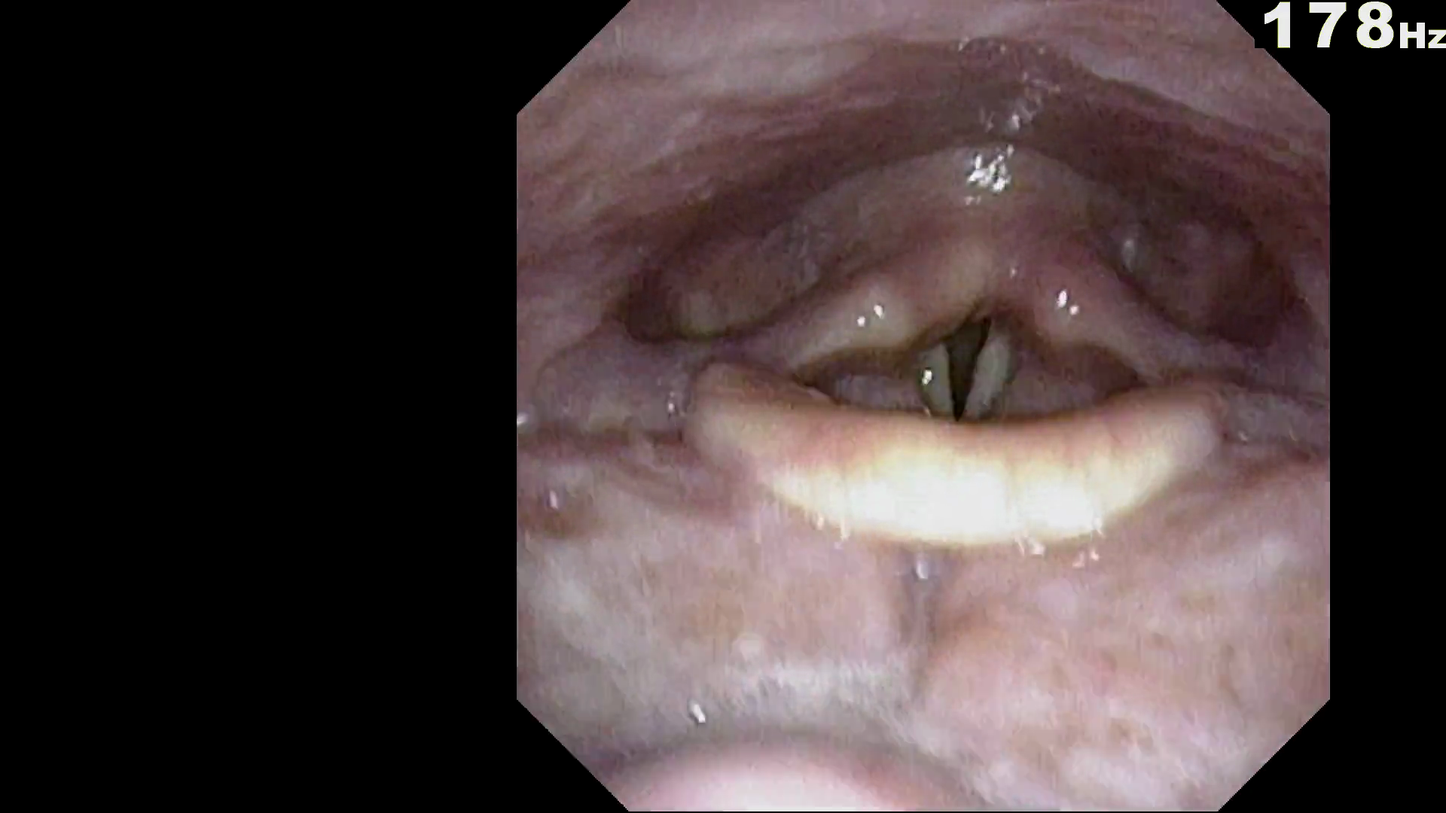epiglottis: (665, 328, 1263, 589)
trachea: (918, 309, 1010, 418)
